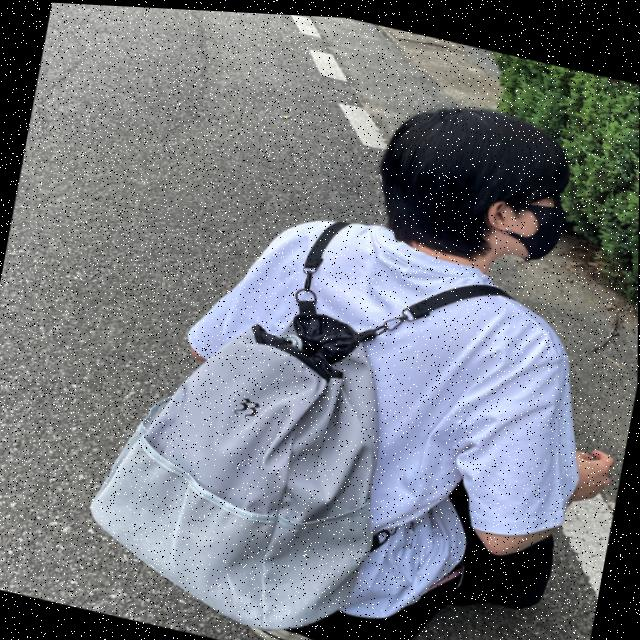backpack: (56, 243, 451, 640)
